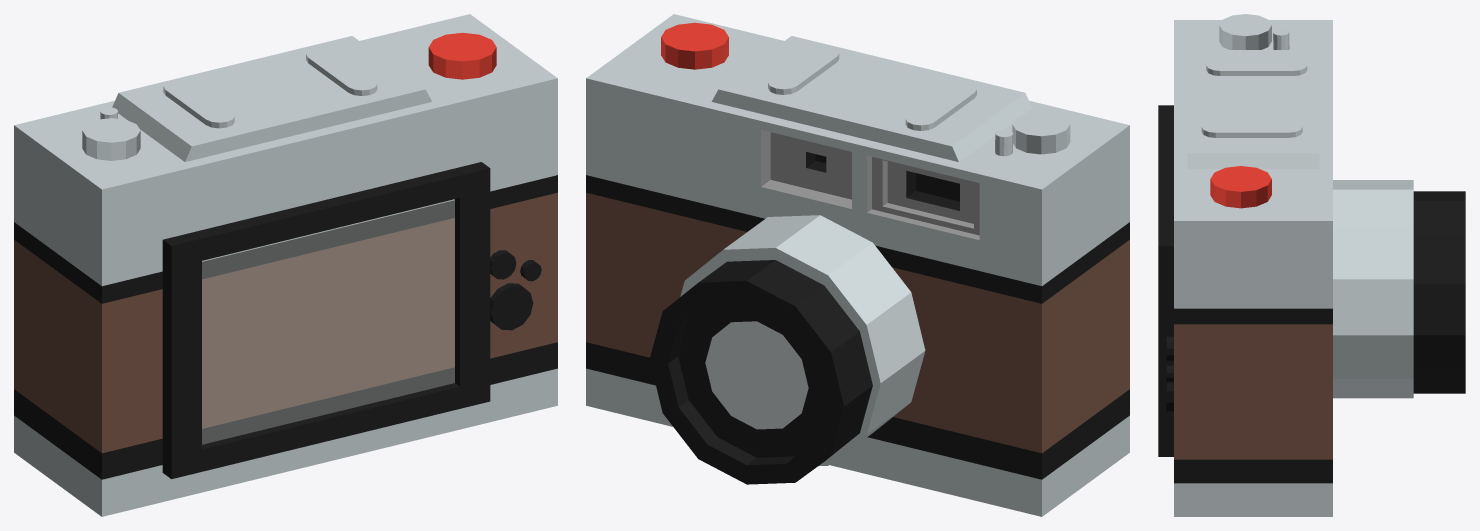
Rendered from Camera.glb.
The picture shows the model from 3 angles, left to right: view 1: azimuth 30°, elevation 25°; view 2: azimuth 150°, elevation 25°; view 3: azimuth 270°, elevation 25°; orthographic projection. The views are drawn at different scales.
Visible parts, largest first — view 1: Node; view 2: Node; view 3: Node.
Boxes of the visible parts, <box> form: Node: <box>14,14,557,516</box>; Node: <box>586,14,1129,516</box>; Node: <box>1158,14,1465,516</box>.
Bounding box in the file's own units: 0.5426 × 0.3948 × 0.3508.
